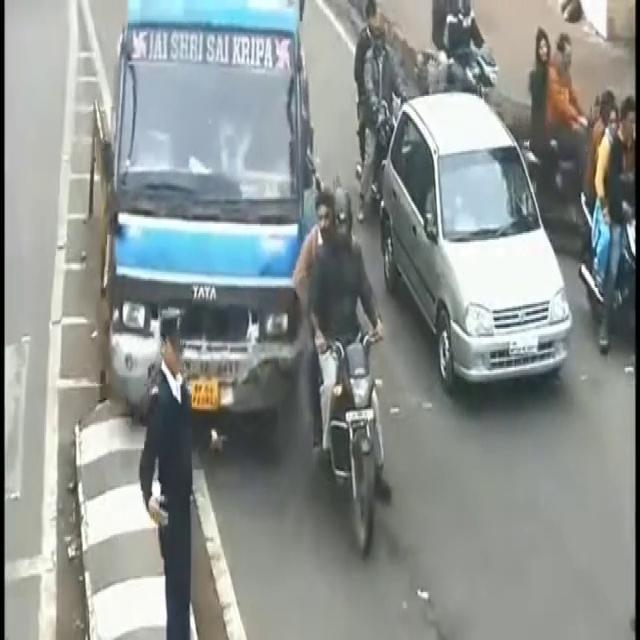accident: (81, 0, 308, 626)
